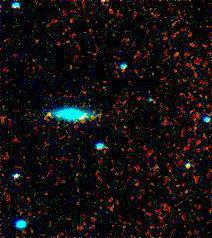star: (34, 98, 64, 128)
